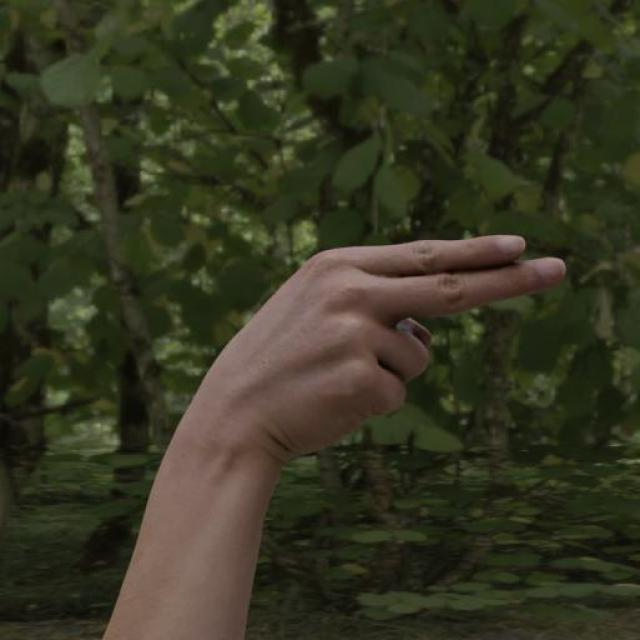H: (169, 230, 570, 492)
